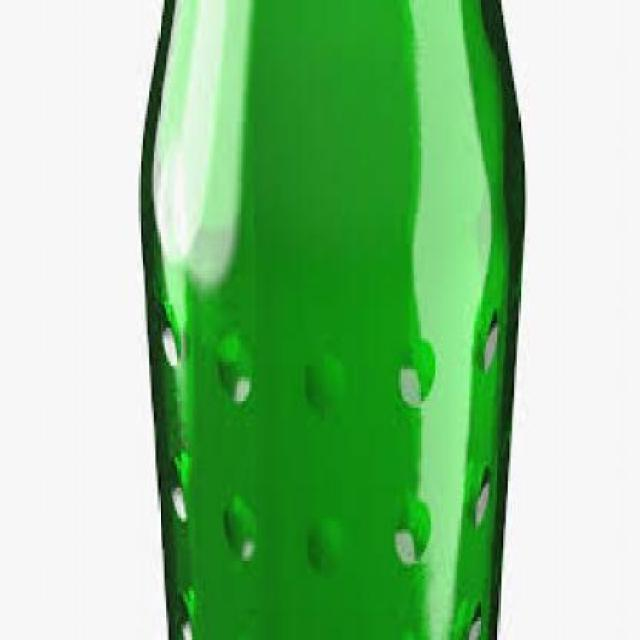GLASS: (137, 0, 526, 637)
